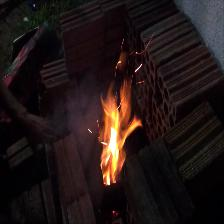fire: (73, 47, 154, 208)
